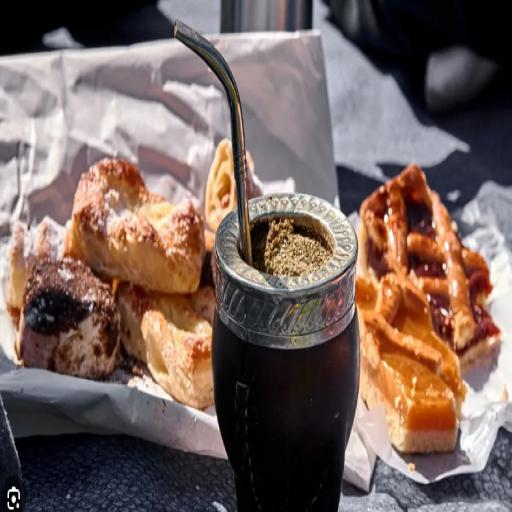bolleria: (356, 274, 465, 452), (68, 158, 204, 291), (116, 281, 215, 408), (19, 260, 120, 378)
mate: (175, 22, 359, 511), (212, 193, 359, 511)
